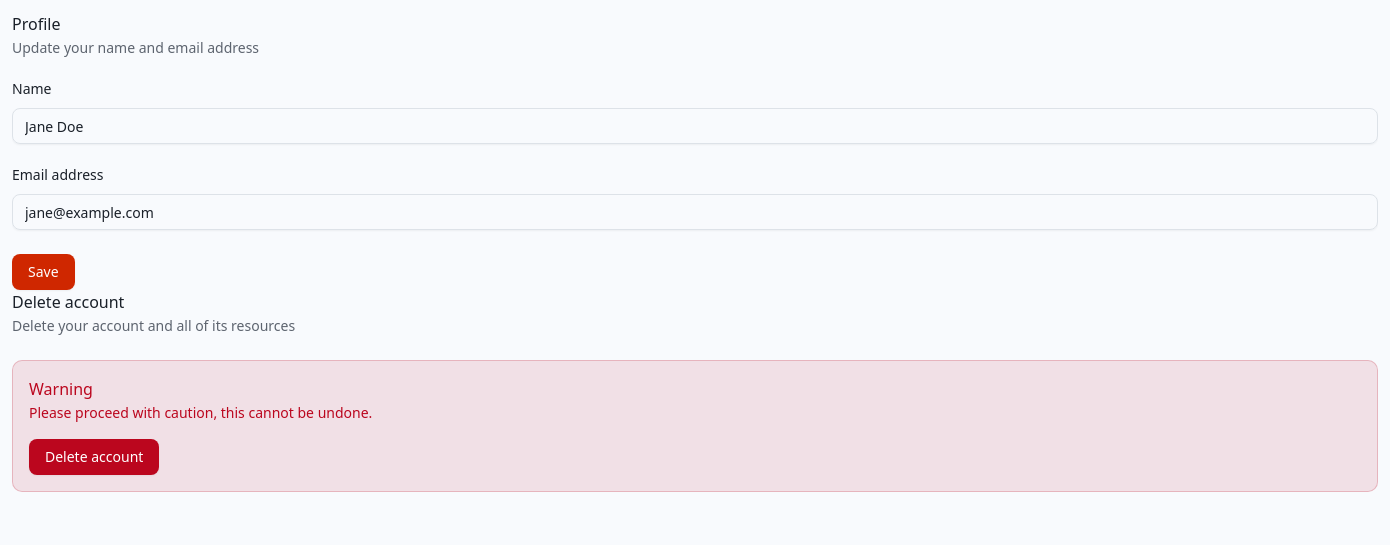
Test: Settings/Profile page › maps 422 field errors onto the matching fields
Click the button "Save" at (43, 272), box [12,254,75,290]
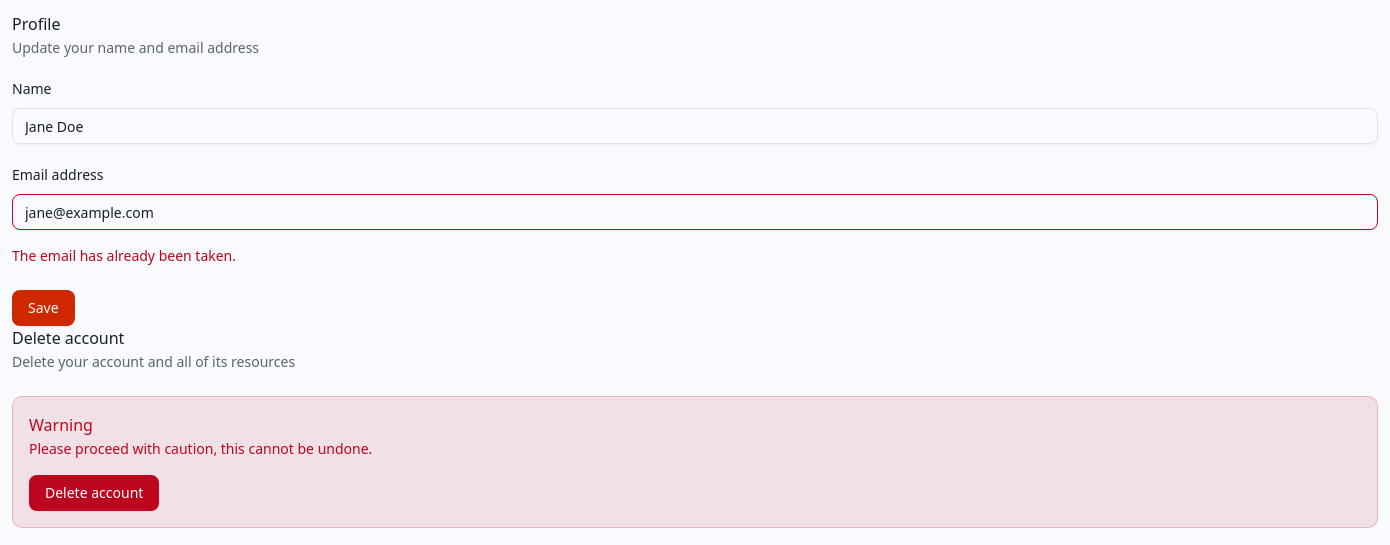
Expected: the field labelled "Name" holds "Jane Doe", [12,108,1378,144]
Result: the text "The email has already been taken." is shown at [12,246,236,265]
